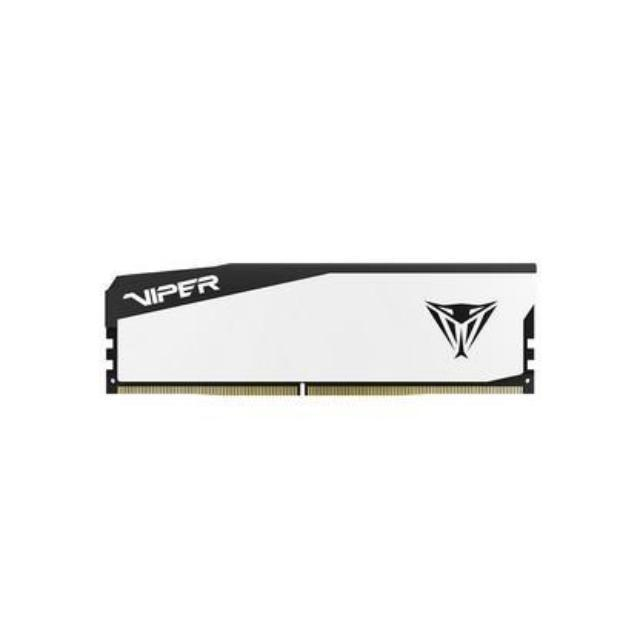RAM: (99, 254, 546, 403)
